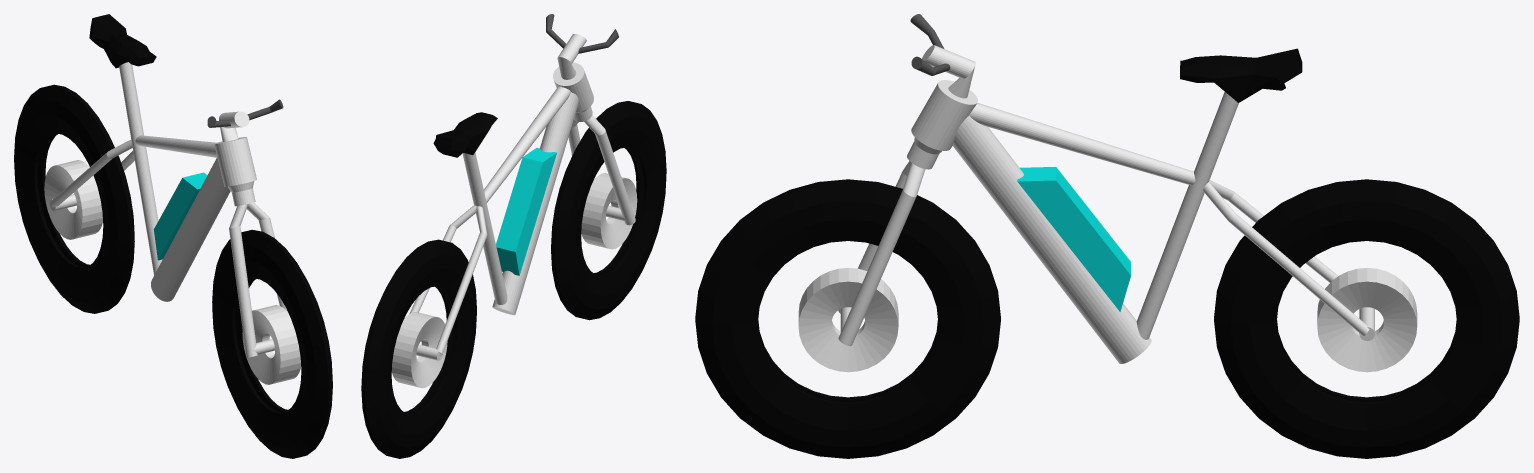
Rendered from electric-bike2.fbx.
The picture shows the model from 3 angles, left to right: view 1: azimuth 30°, elevation 25°; view 2: azimuth 150°, elevation 25°; view 3: azimuth 270°, elevation 25°; orthographic projection. The views are drawn at different scales.
Visible parts, largest first — view 1: Circle.002, Circle, Cylinder, Circle.003, Circle.001, Cube.001, Cube; view 2: Circle, Circle.002, Cylinder, Cube, Circle.003, Circle.001, Cube.001; view 3: Circle.002, Circle, Cylinder, Circle.003, Circle.001, Cube, Cube.001.
Boxes of the visible parts, x1=… form: Circle.002: x1=14, y1=84, x2=134, y2=313; Circle: x1=212, y1=229, x2=332, y2=458; Cylinder: x1=50, y1=62, x2=287, y2=357; Circle.003: x1=44, y1=160, x2=102, y2=239; Circle.001: x1=242, y1=305, x2=301, y2=384; Cube.001: x1=89, y1=14, x2=156, y2=68; Cube: x1=153, y1=172, x2=207, y2=260; Circle: x1=551, y1=101, x2=666, y2=320; Circle.002: x1=361, y1=239, x2=476, y2=458; Cylinder: x1=409, y1=34, x2=635, y2=355; Cube: x1=496, y1=148, x2=556, y2=275; Circle.003: x1=391, y1=312, x2=447, y2=388; Circle.001: x1=581, y1=173, x2=637, y2=249; Cube.001: x1=433, y1=112, x2=497, y2=157; Circle.002: x1=1214, y1=179, x2=1519, y2=458; Circle: x1=695, y1=179, x2=1000, y2=458; Cylinder: x1=838, y1=45, x2=1369, y2=363; Circle.003: x1=1317, y1=267, x2=1417, y2=372; Circle.001: x1=798, y1=267, x2=898, y2=372; Cube: x1=1017, y1=167, x2=1130, y2=311; Cube.001: x1=1180, y1=48, x2=1302, y2=102.
Bounding box in the file's own units: 102 × 418 × 739.
